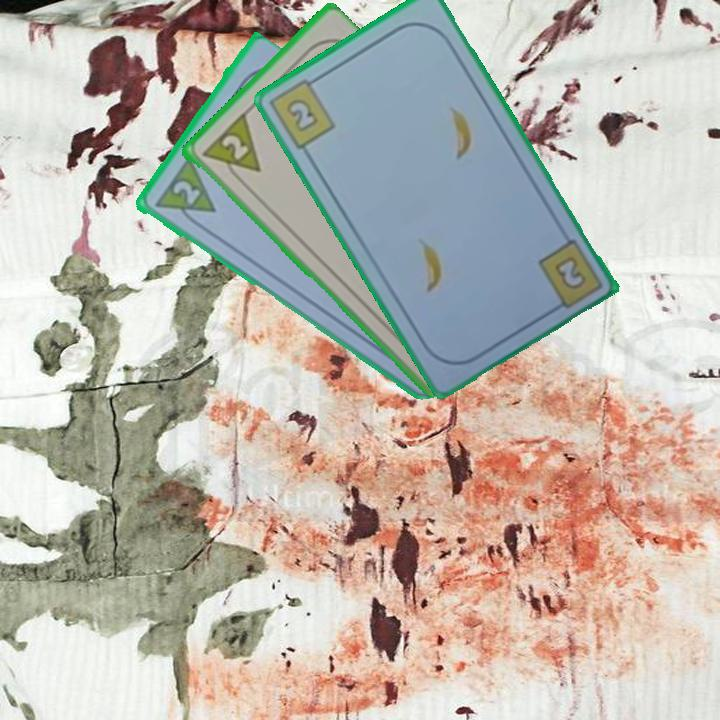2b: (266, 71, 338, 153), (550, 252, 589, 293)
2p: (197, 110, 263, 189), (168, 176, 203, 208)
